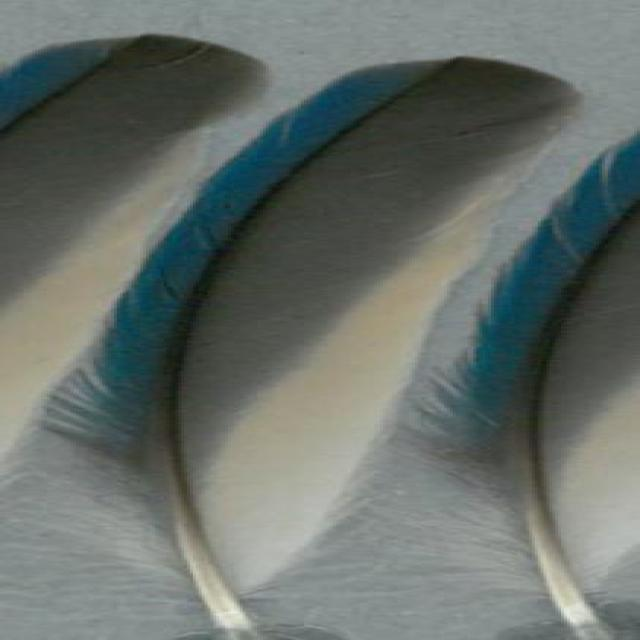feather: (29, 54, 593, 640), (371, 128, 640, 640)
